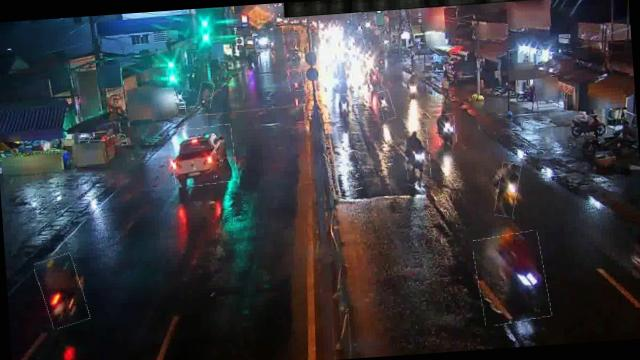Bike: (474, 231, 550, 326), (36, 253, 86, 328), (493, 161, 521, 217), (403, 128, 430, 180), (574, 113, 606, 139), (436, 114, 456, 146), (331, 94, 352, 120), (376, 90, 394, 120), (197, 81, 215, 109), (286, 68, 304, 91), (406, 75, 418, 100), (368, 66, 379, 90)
Car: (168, 124, 236, 186)
